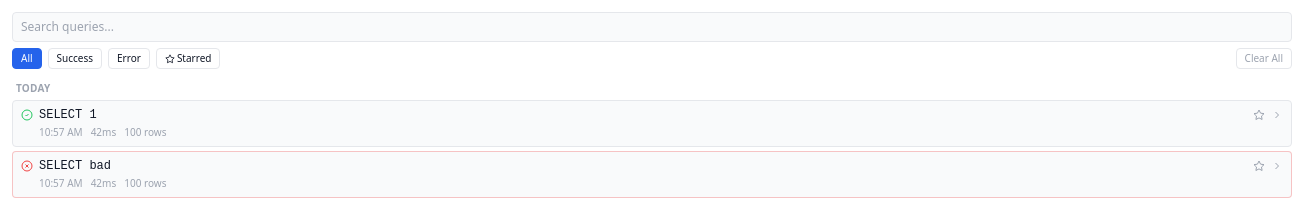
Test case: QH-5: Status filter works (All/Success/Error) › filters to only success queries when Success filter is clicked
The image size is (1304, 215).
What coordinates should you click on to do the following:
click the button with test id "query-history-filter-success"
I would click on:
 (75, 58)
Its box is 48,48 -> 102,69.
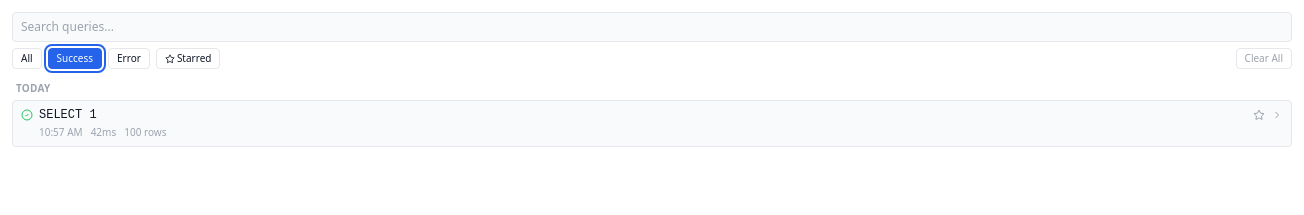
expect the icon with test id "status-icon-success" is shown: met, box 21,109 -> 33,121
expect the number of elements with test id "query-history-entry" is 1: met, box 12,100 -> 1292,147
